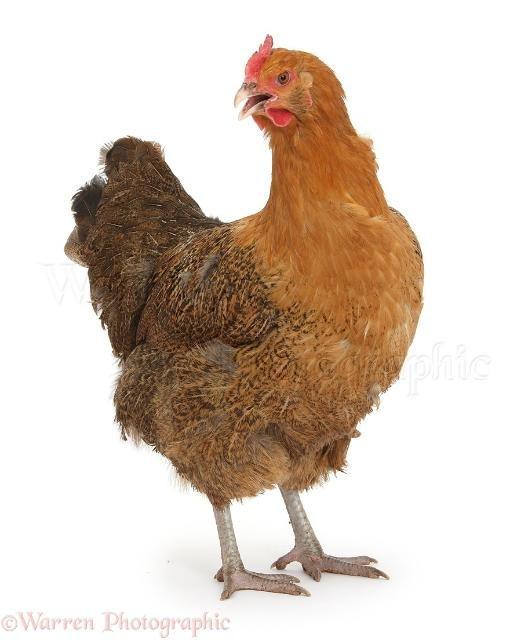Chicken: (61, 29, 429, 599)
